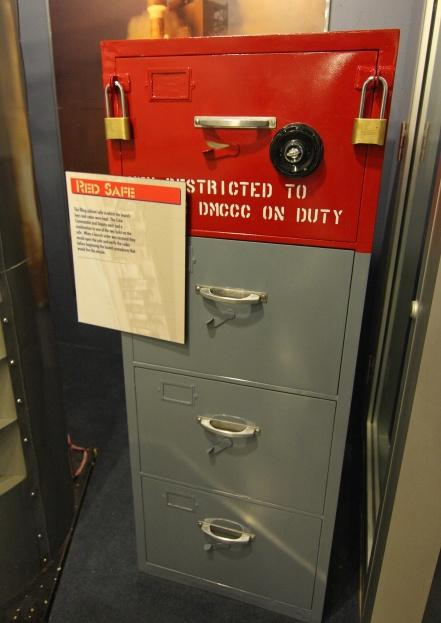Filing Cabinet: (98, 28, 400, 622)
